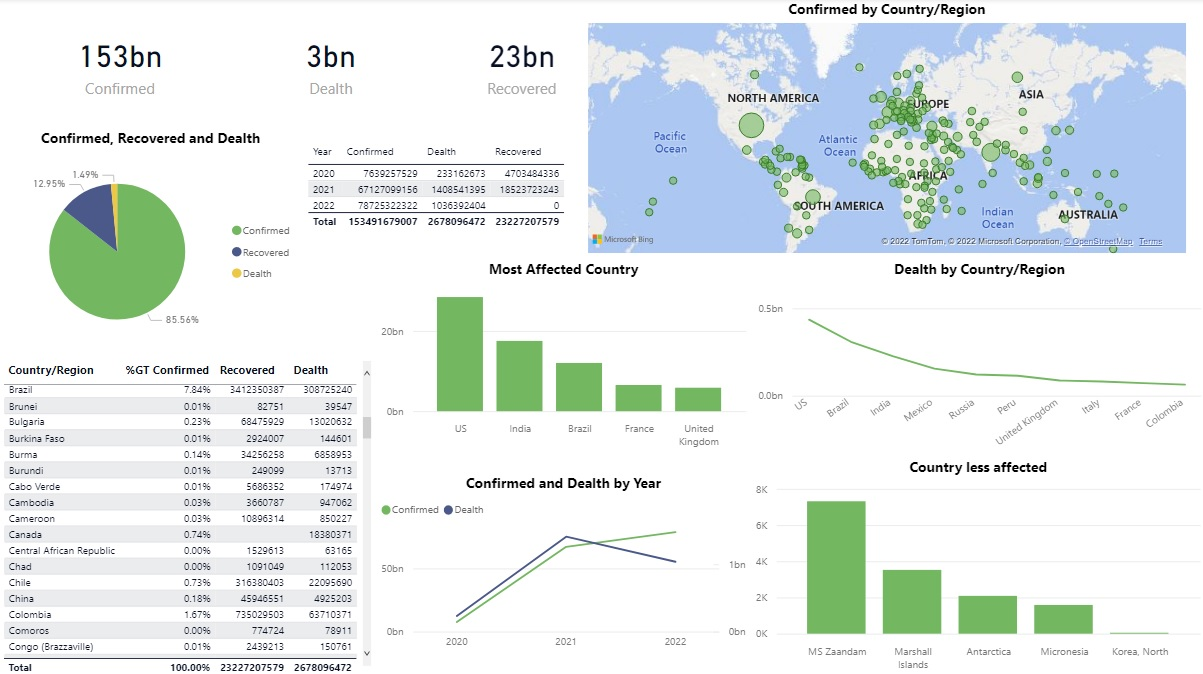

What the dashboard file says about the page in this screenshot:
{"tool":"powerbi","page":{"name":"Page 1","canvas":[1280,720],"ordinal":0},"visuals":[{"type":"tableEx","fields":{"Values":["Covid 19.Country/Region","Sum(Covid 19.Confirmed)","Sum(Covid 19.Recovered)","Sum(Covid 19.Dealth)"]},"box":[0,378.3,400.5,341.7],"z":0},{"type":"pieChart","fields":{"Y":["Sum(Covid 19.Confirmed)","Sum(Covid 19.Recovered)","Sum(Covid 19.Dealth)"]},"box":[0,136.7,323.3,241.7],"z":1000},{"type":"lineChart","fields":{"Category":["Covid 19.Year"],"Y":["Sum(Covid 19.Confirmed)"],"Y2":["Sum(Covid 19.Dealth)"]},"box":[400.5,502.3,397.4,197.1],"z":2000},{"type":"tableEx","fields":{"Values":["Covid 19.Year","Sum(Covid 19.Confirmed)","Sum(Covid 19.Dealth)","Sum(Covid 19.Recovered)"]},"box":[322.9,148.6,297.1,108.6],"z":3000},{"type":"columnChart","title":"Most Affected Country","fields":{"Category":["Covid 19.Country/Region"],"Y":["Sum(Covid 19.Confirmed)"]},"box":[400.5,275,397.4,209.8],"z":4000},{"type":"columnChart","title":"Country less affected","fields":{"Y":["Sum(Covid 19.Confirmed)"],"Category":["Covid 19.Country/Region"]},"box":[798.6,484.3,481.4,235.7],"z":5000},{"type":"lineChart","fields":{"Category":["Covid 19.Country/Region"],"Y":["Sum(Covid 19.Dealth)"]},"box":[799.1,274.6,480.9,210.2],"z":6000},{"type":"map","fields":{"Category":["Covid 19.Country/Region"],"Size":["Sum(Covid 19.Confirmed)"]},"box":[620,0,644,274],"z":7000},{"type":"card","fields":{"Values":["Sum(Covid 19.Confirmed)"]},"box":[6,0,245.9,136],"z":8000},{"type":"card","fields":{"Values":["Sum(Covid 19.Dealth)"]},"box":[251.7,0,202.9,136.6],"z":9000},{"type":"card","fields":{"Values":["Sum(Covid 19.Recovered)"]},"box":[454.6,0,201,136.6],"z":10000}]}

Visuals, with their boxes in screenshot pixels (x1, y1, x2, y2), scaled from the page's 1280x720 canvas onto the 1203x674 screenshot:
tableEx - Covid 19.Country/Region x Sum(Covid 19.Confirmed): 0, 354, 376, 673
pieChart - Sum(Covid 19.Confirmed) x Sum(Covid 19.Recovered): 0, 128, 304, 354
lineChart - Covid 19.Year x Sum(Covid 19.Confirmed): 376, 470, 750, 655
tableEx - Covid 19.Year x Sum(Covid 19.Confirmed): 303, 139, 583, 241
"Most Affected Country" columnChart: 376, 257, 750, 454
"Country less affected" columnChart: 751, 453, 1202, 673
lineChart - Covid 19.Country/Region x Sum(Covid 19.Dealth): 751, 257, 1202, 454
map - Covid 19.Country/Region x Sum(Covid 19.Confirmed): 583, 0, 1188, 256
card - Sum(Covid 19.Confirmed): 6, 0, 237, 127
card - Sum(Covid 19.Dealth): 237, 0, 427, 128
card - Sum(Covid 19.Recovered): 427, 0, 616, 128
